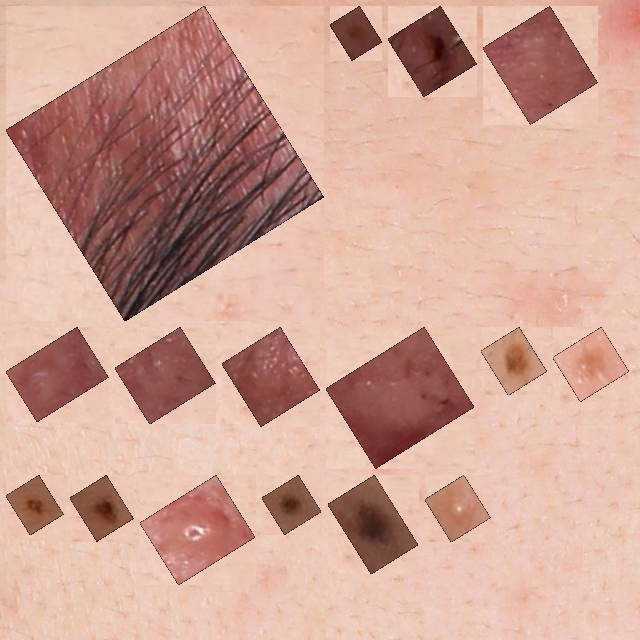hypertrophic_scar: (17, 17, 313, 310), (337, 338, 463, 457), (494, 17, 587, 113), (233, 338, 309, 415), (126, 338, 204, 413), (17, 338, 97, 411)
nevus: (339, 486, 407, 563), (564, 338, 618, 390), (492, 338, 536, 384), (81, 486, 122, 530), (273, 486, 310, 523), (17, 486, 52, 524), (341, 17, 371, 49)
pustule: (151, 486, 244, 574), (399, 17, 466, 85), (436, 486, 479, 531)
